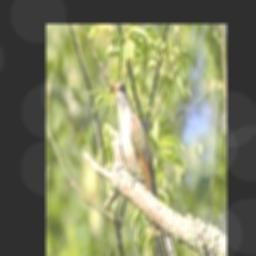Cuckoo: (110, 81, 177, 256)
